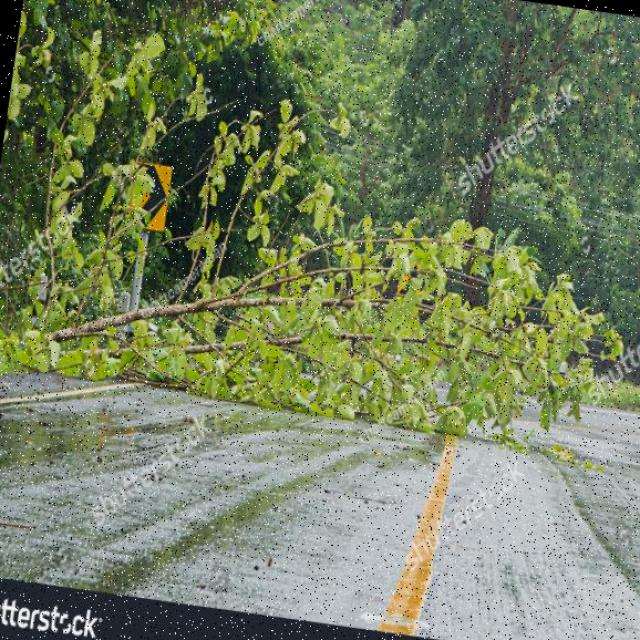fallen_object: (0, 191, 617, 468)
